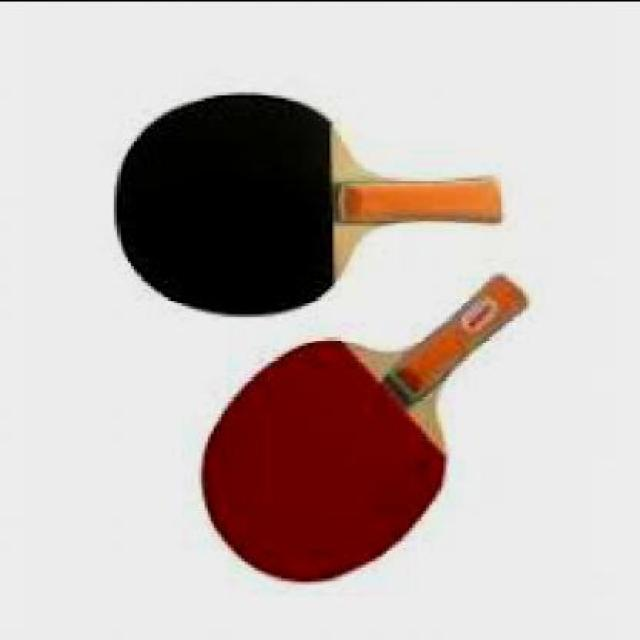table_tennis_racket: (202, 274, 531, 585), (115, 94, 506, 318)
